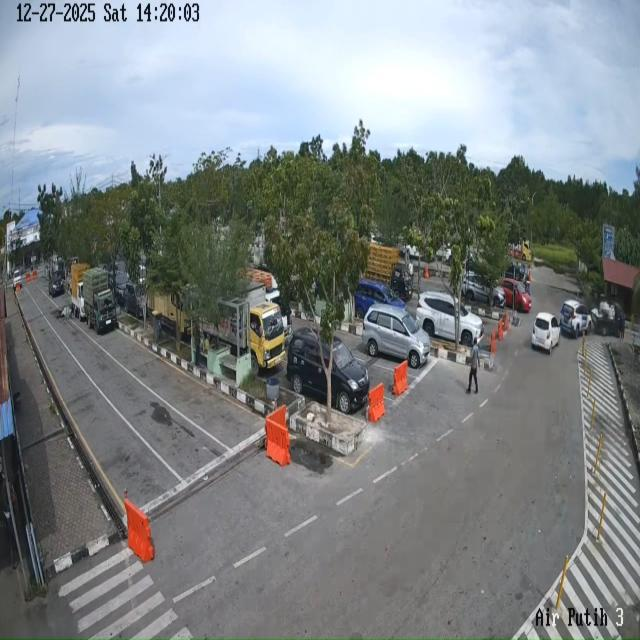Golongan IVA: (286, 327, 370, 414), (362, 304, 430, 369), (416, 292, 484, 347), (355, 279, 406, 320), (462, 272, 506, 308), (531, 312, 560, 354), (560, 300, 592, 338), (501, 278, 532, 313), (124, 282, 144, 318), (48, 271, 65, 297)
Golongan IVB: (591, 301, 623, 337)
Golongan VB: (201, 281, 286, 374), (83, 267, 117, 334), (70, 263, 90, 321)
